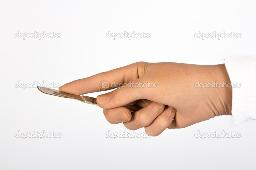scalpel: (36, 86, 176, 122)
